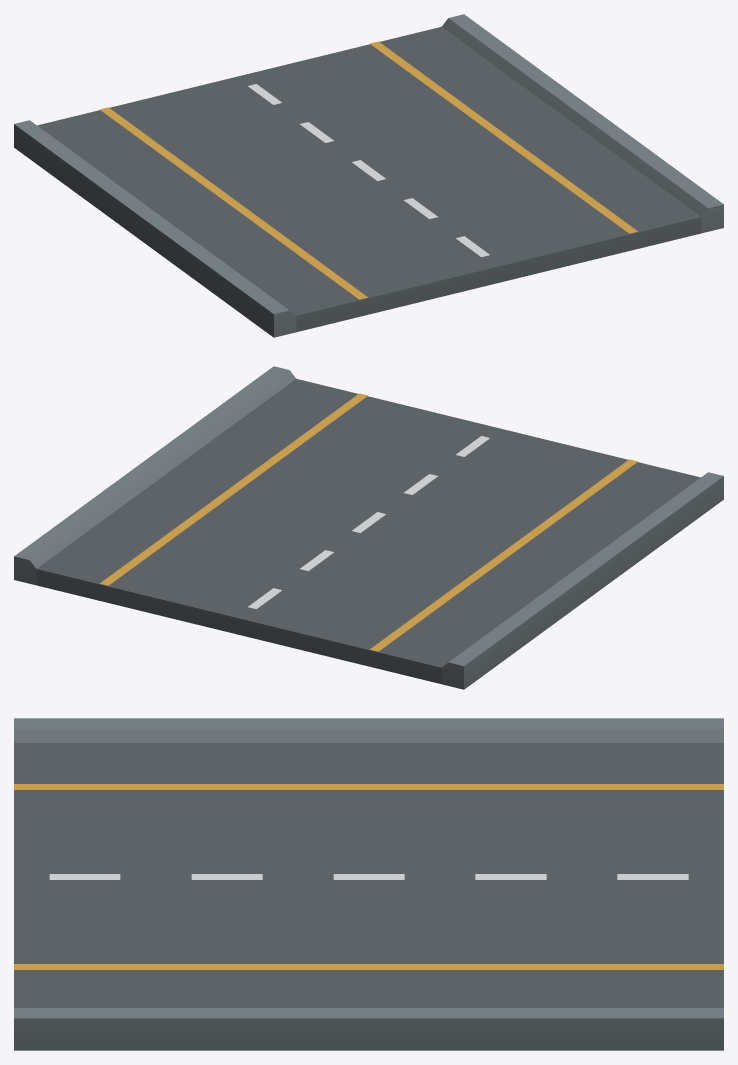
The model's file is Road-Straight.glb.
The picture shows the model from 3 angles, top to bottom: view 1: azimuth 30°, elevation 25°; view 2: azimuth 150°, elevation 25°; view 3: azimuth 270°, elevation 25°; orthographic projection. The views are drawn at different scales.
Visible parts, largest first — view 1: road_straight; view 2: road_straight; view 3: road_straight.
Boxes of the visible parts, <box> form: road_straight: <box>14,14,723,337</box>; road_straight: <box>14,366,723,689</box>; road_straight: <box>14,718,723,1050</box>.
Size of the model in its own units: 2 by 0.1 by 2.
Materials: 1 (1 with a texture image).
